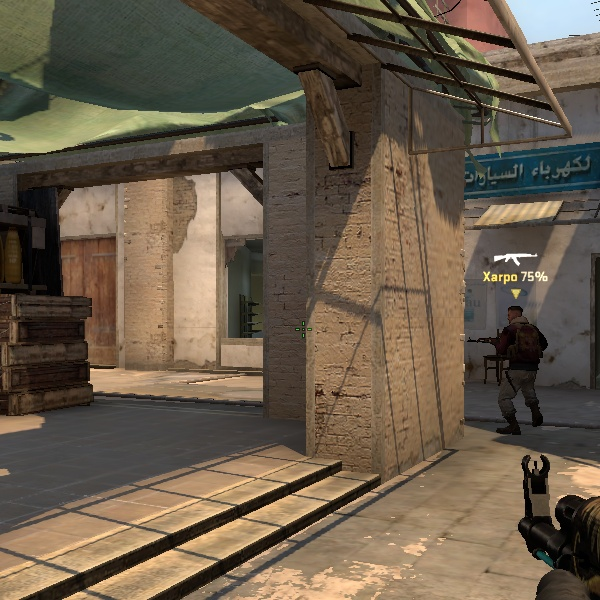t_body: (478, 299, 557, 435)
t_head: (497, 300, 530, 334)
